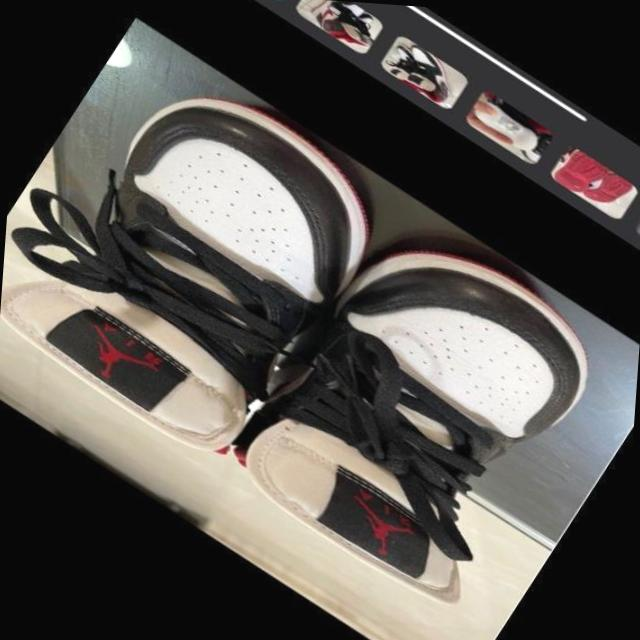nike_fake_jordan: (0, 28, 423, 492), (206, 189, 628, 632)
